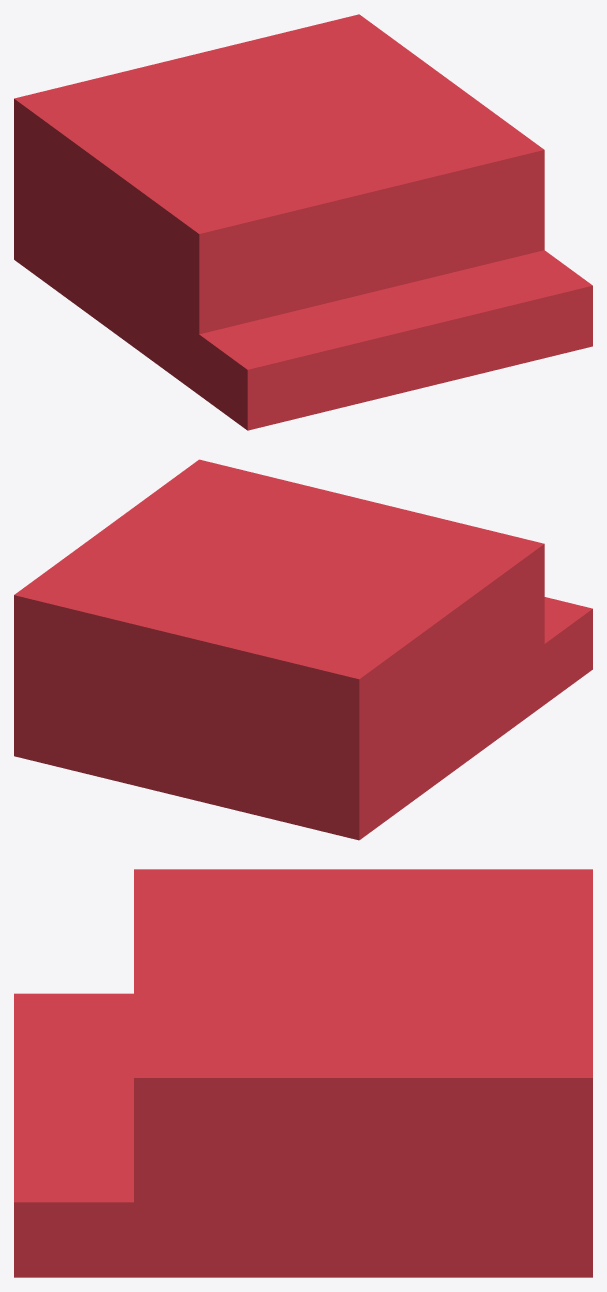
The model's file is marioHat.fbx.
3 views of the same model, one above another, from view 1: azimuth 30°, elevation 25°; view 2: azimuth 150°, elevation 25°; view 3: azimuth 270°, elevation 25° (orthographic). The views are drawn at different scales.
Visible parts, largest first — view 1: Cube; view 2: Cube; view 3: Cube.
Part boxes in pixels (box(x1,y1,x2,y2)): Cube: box(14, 14, 592, 430); Cube: box(14, 459, 592, 840); Cube: box(14, 869, 592, 1277).
Size of the model in its own units: 2.15 by 2.52 by 0.96.
